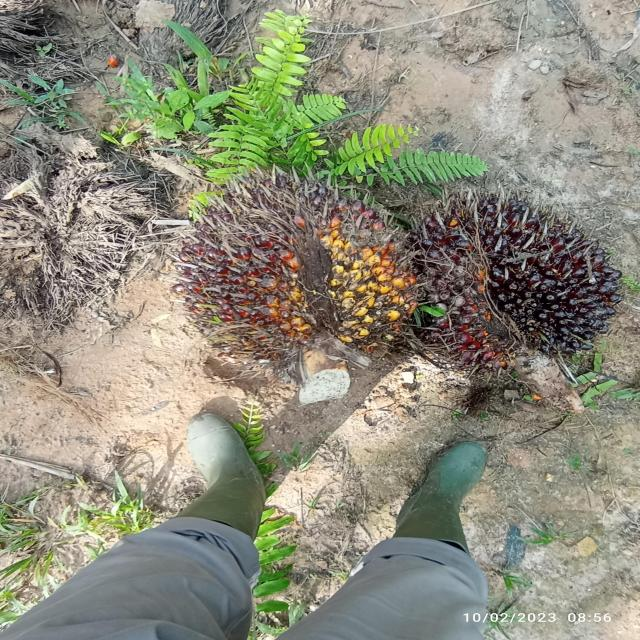fraksi 00: (407, 180, 630, 388)
fraksi 1: (140, 162, 422, 384)
